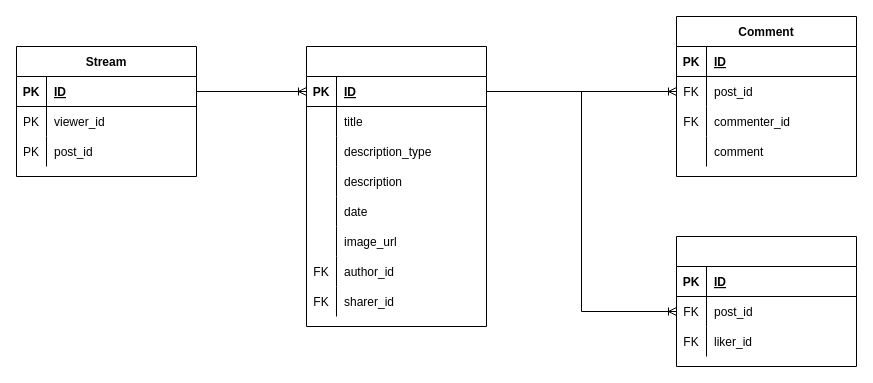
Some shapes in this 873 by 383 pixel diagram are drawn without their labels. Here are the shapes that lost their labels. From the top down, the box of each, then its label:
(306, 46, 486, 326): Posts
(676, 236, 856, 366): Likes
